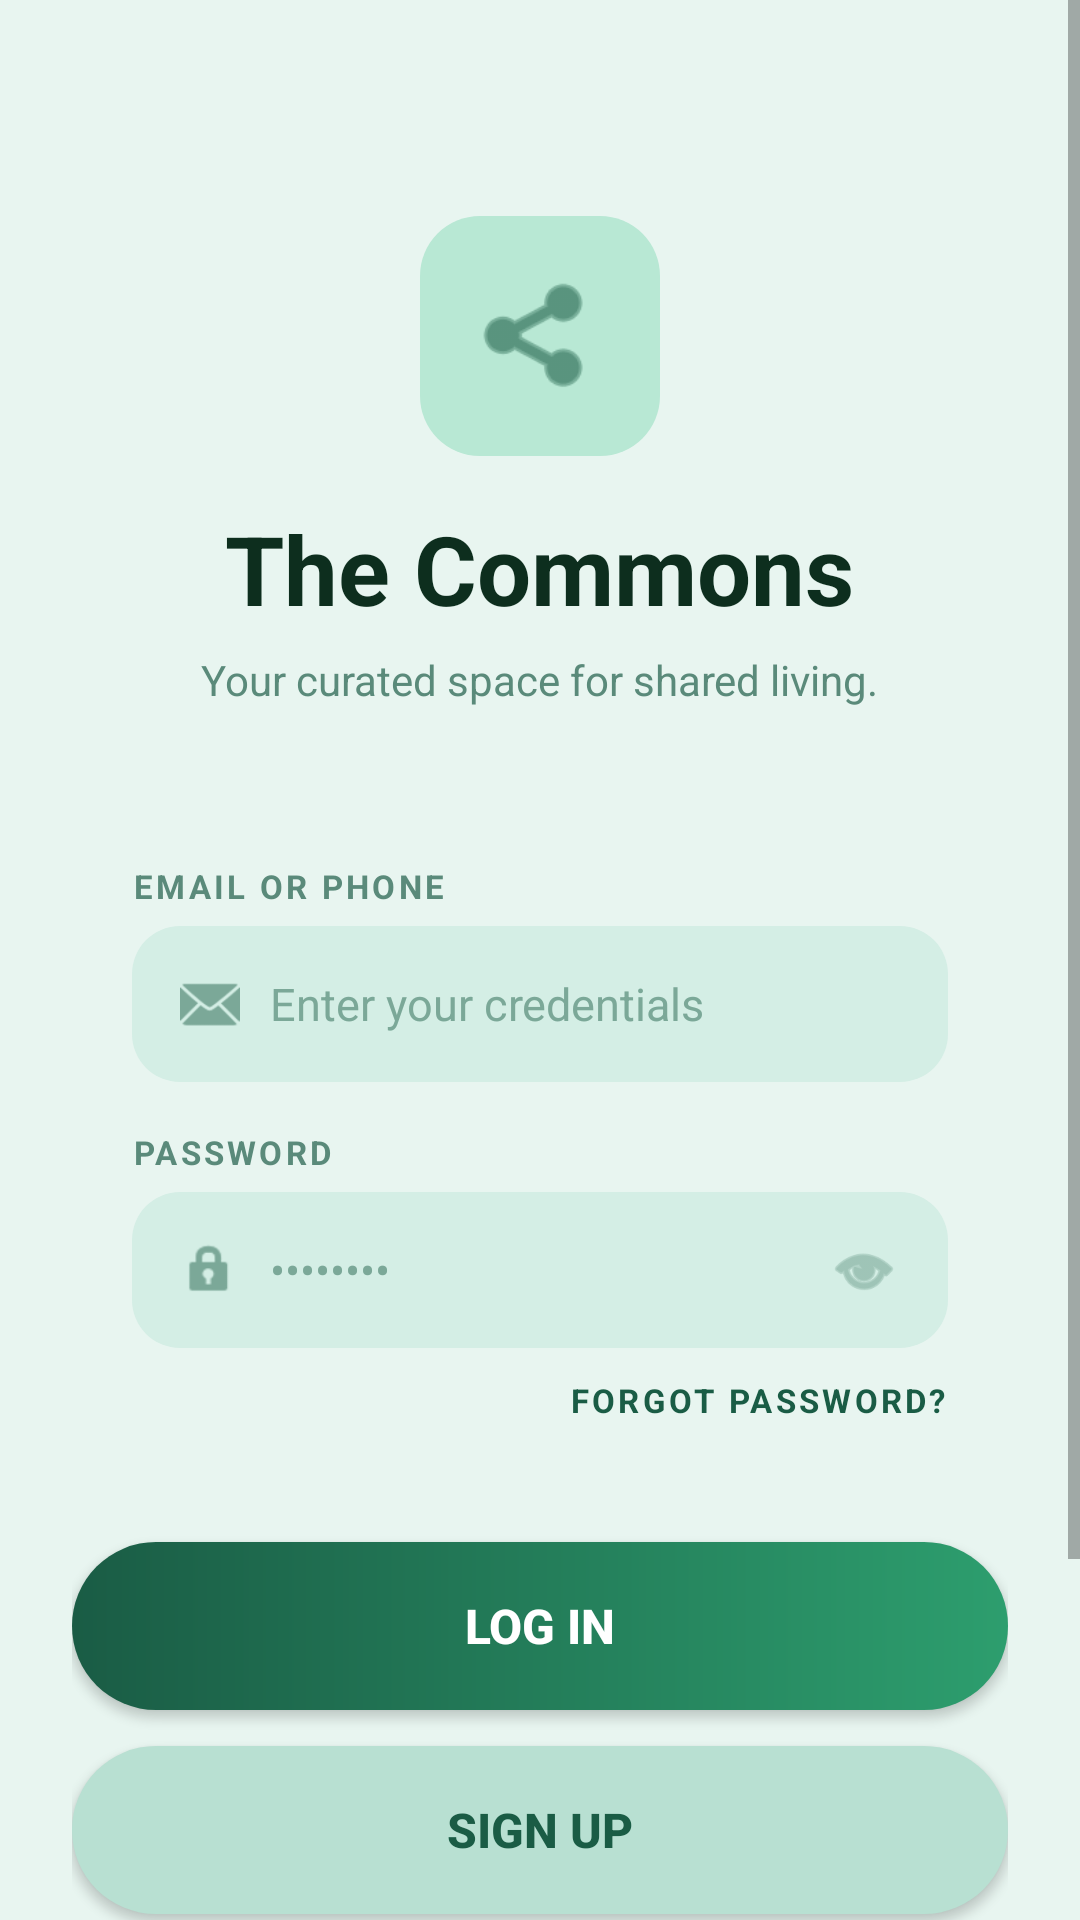

Screen size 1080w x 1920h. Icon name, then its center in pixels as [x,y]:
lock idle: [208,1268]
share: [533,335]
view: [864,1272]
